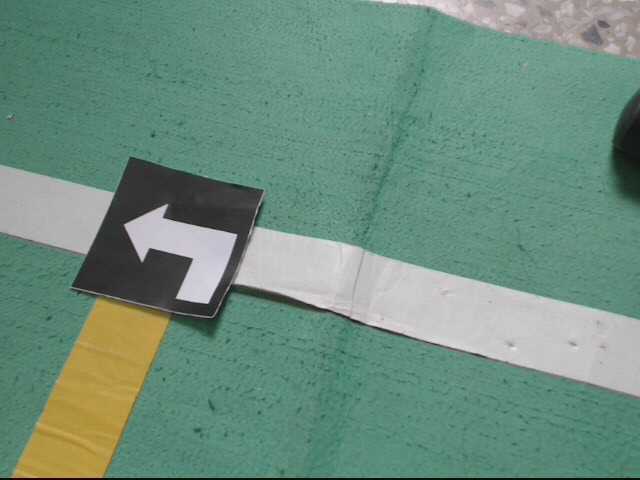left: (70, 156, 261, 318)
